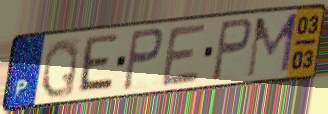E: (159, 21, 209, 90), (74, 32, 121, 95)
M: (243, 11, 300, 80)
P: (209, 16, 254, 83), (120, 26, 165, 93)
Q: (39, 36, 81, 100)
